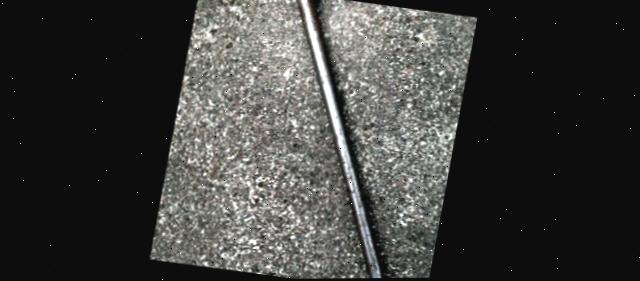crow bar: (299, 0, 392, 279)
